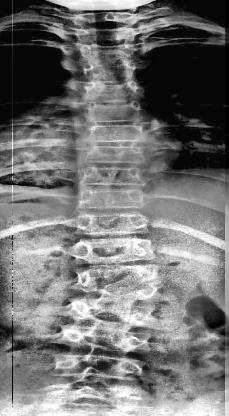Vertebrae: (66, 290, 160, 330), (52, 350, 148, 388), (58, 324, 154, 356), (72, 262, 161, 296), (70, 235, 158, 267), (75, 207, 153, 239), (76, 162, 150, 190), (81, 118, 149, 146), (80, 100, 148, 126), (81, 141, 148, 167), (76, 186, 148, 210), (80, 78, 146, 104), (74, 40, 142, 64), (80, 59, 140, 83), (73, 24, 137, 44)
